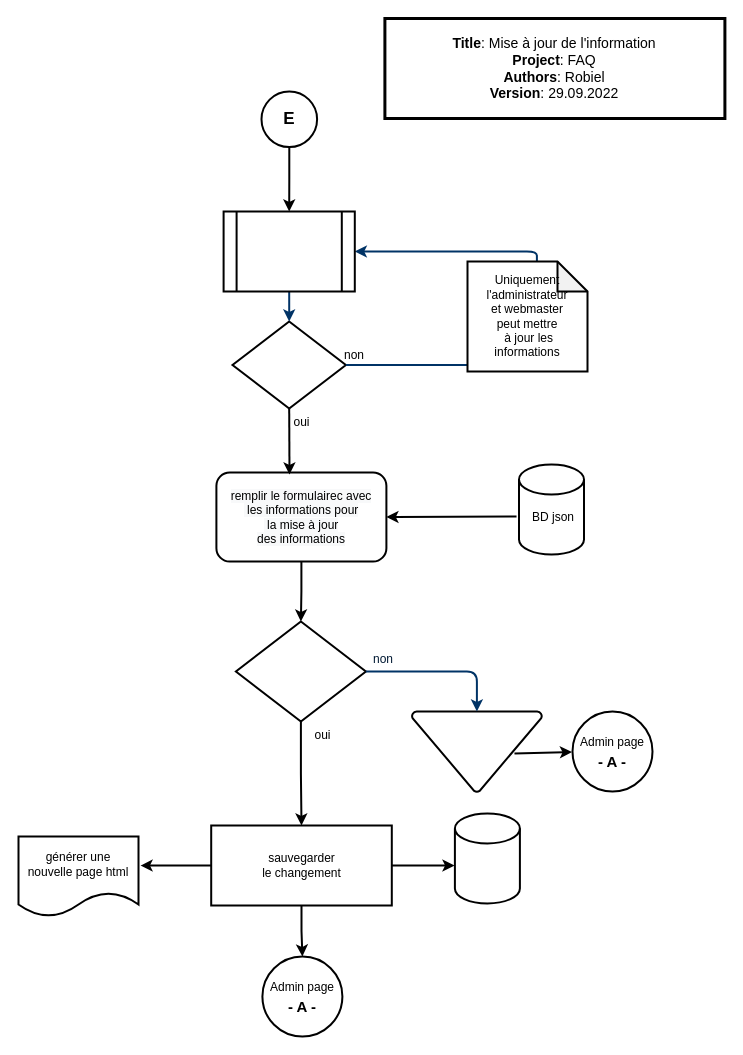
This 743x1055 diagram has some shape labels left out. Here are the shapes that lost their labels. From the top down, the centre of each, then its label:
(x=288, y=251): Mise à jour de l'information
(x=288, y=364): vérifier pour autorisation
(x=300, y=671): Submit ?
(x=476, y=751): Terminer la requête
(x=486, y=858): Mettre à jour le BD json
